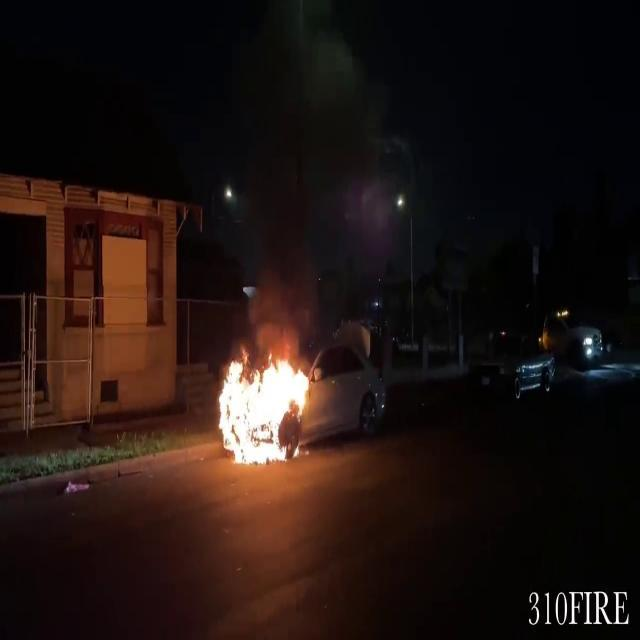Fire: (210, 344, 320, 465)
Smoke: (225, 2, 388, 340)
